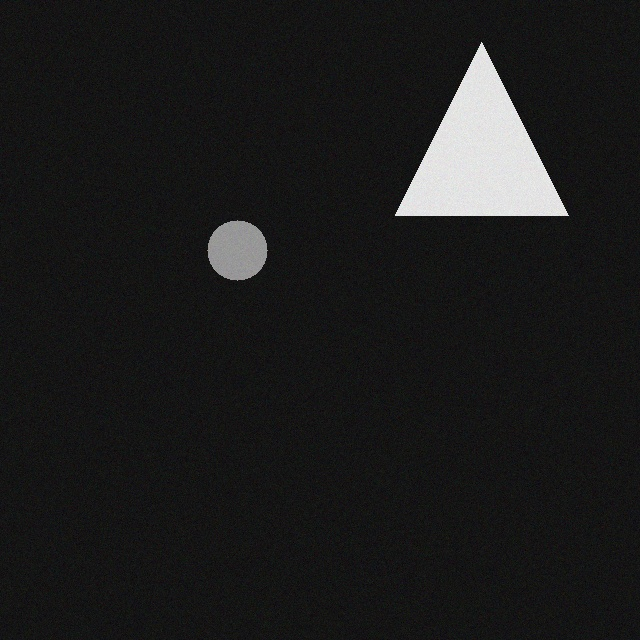circle: (219, 210, 279, 270)
triangle: (407, 32, 580, 205)
